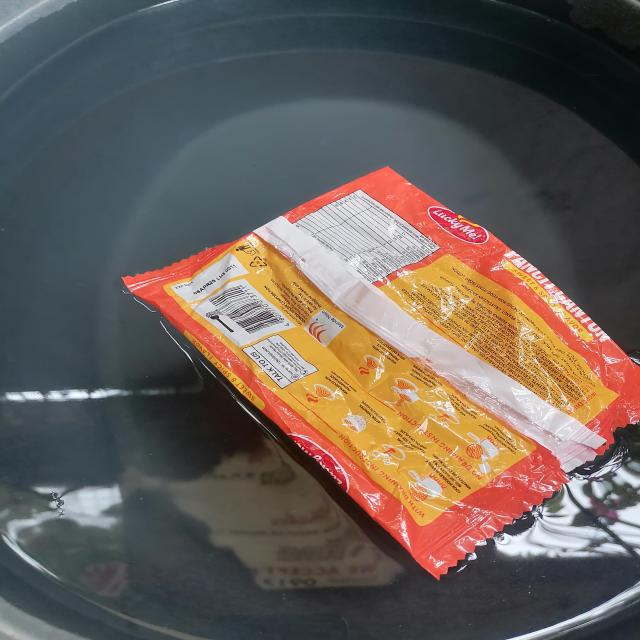Plastic Wrapper: (123, 168, 640, 579)
